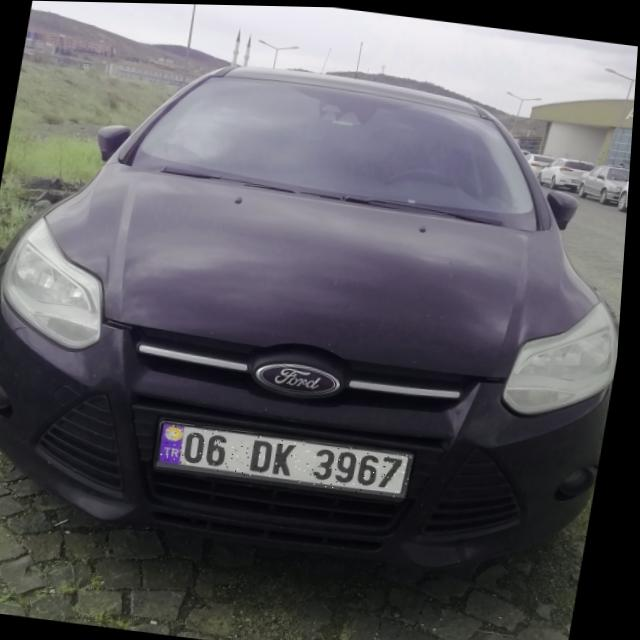license_plate: (161, 421, 421, 496)
